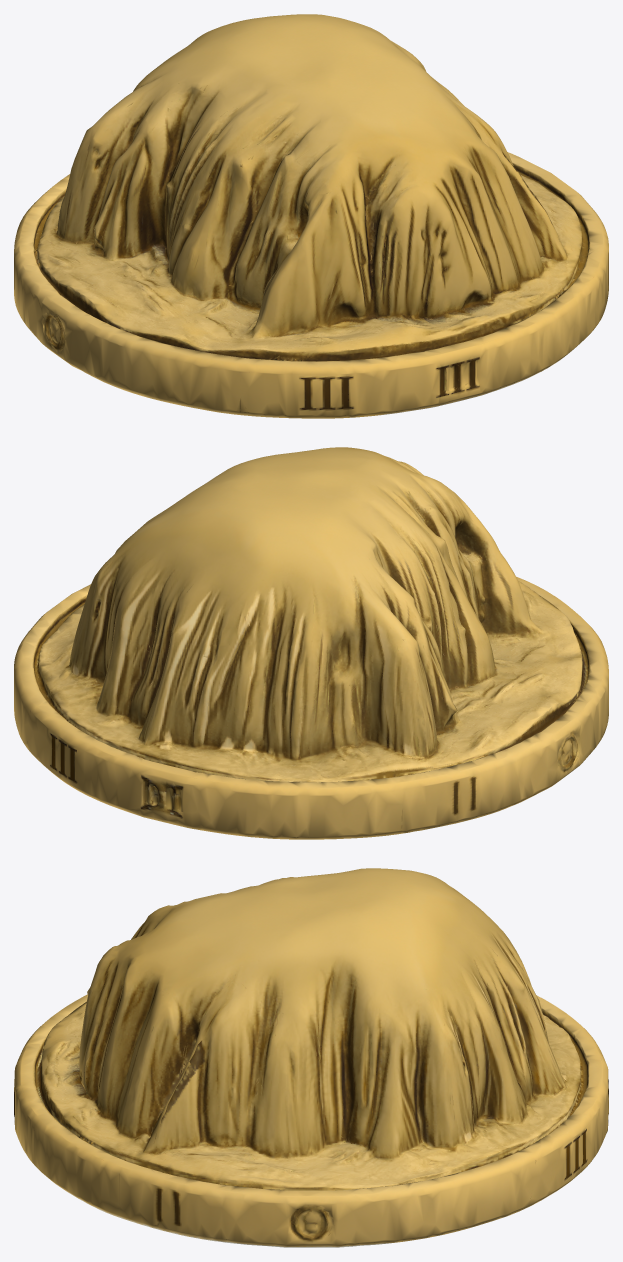
File: uluru_gold.glb
3 views of the same model, one above another, from view 1: azimuth 30°, elevation 25°; view 2: azimuth 150°, elevation 25°; view 3: azimuth 270°, elevation 25° (orthographic).
Visible parts, largest first — view 1: Mesh_0; view 2: Mesh_0; view 3: Mesh_0.
Boxes of the visible parts, x1,y1,x2,y2 form: Mesh_0: (14, 14, 608, 418); Mesh_0: (14, 447, 608, 839); Mesh_0: (14, 868, 608, 1247).
Bounding box in the file's own units: 1.91 × 0.848 × 1.91.
1 material, 1 textured.
